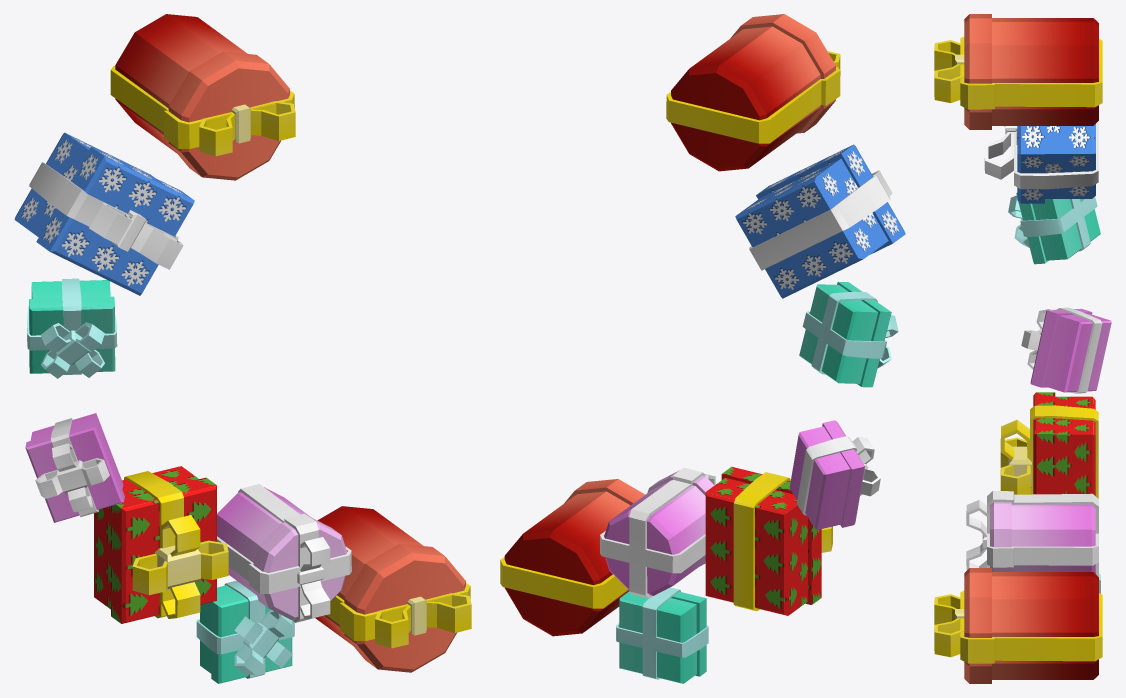
Rendered from regalo_2.obj.
3 renders of one model, left to right at view 1: azimuth 30°, elevation 25°; view 2: azimuth 150°, elevation 25°; view 3: azimuth 270°, elevation 25°, orthographic. The views are drawn at different scales.
Parts seen in each view (by area): view 1: Christmas_Present_01_Mesh.007, Christmas_Present_009_Mesh.038, Christmas_Present_04_Mesh.004, Christmas_Present_008_Mesh.037, Christmas_Present_02_Mesh.009, Christmas_Present_07_Mesh.006, Christmas_Present_05_Mesh.005, Christmas_Present_06_Mesh.008; view 2: Christmas_Present_01_Mesh.007, Christmas_Present_009_Mesh.038, Christmas_Present_04_Mesh.004, Christmas_Present_008_Mesh.037, Christmas_Present_02_Mesh.009, Christmas_Present_07_Mesh.006, Christmas_Present_06_Mesh.008, Christmas_Present_05_Mesh.005; view 3: Christmas_Present_01_Mesh.007, Christmas_Present_008_Mesh.037, Christmas_Present_02_Mesh.009, Christmas_Present_04_Mesh.004, Christmas_Present_009_Mesh.038, Christmas_Present_05_Mesh.005, Christmas_Present_07_Mesh.006.
Part boxes in pixels (left/top/right/bottom): Christmas_Present_01_Mesh.007: left=110, top=14, right=295, bottom=180; Christmas_Present_009_Mesh.038: left=14, top=132, right=194, bottom=295; Christmas_Present_04_Mesh.004: left=94, top=466, right=228, bottom=623; Christmas_Present_008_Mesh.037: left=315, top=506, right=471, bottom=672; Christmas_Present_02_Mesh.009: left=217, top=484, right=351, bottom=622; Christmas_Present_07_Mesh.006: left=27, top=278, right=117, bottom=378; Christmas_Present_05_Mesh.005: left=25, top=413, right=124, bottom=522; Christmas_Present_06_Mesh.008: left=196, top=580, right=294, bottom=683; Christmas_Present_01_Mesh.007: left=666, top=14, right=840, bottom=171; Christmas_Present_009_Mesh.038: left=735, top=144, right=905, bottom=298; Christmas_Present_04_Mesh.004: left=705, top=466, right=832, bottom=615; Christmas_Present_008_Mesh.037: left=500, top=479, right=644, bottom=636; Christmas_Present_02_Mesh.009: left=600, top=467, right=715, bottom=598; Christmas_Present_07_Mesh.006: left=799, top=281, right=898, bottom=387; Christmas_Present_06_Mesh.008: left=616, top=587, right=708, bottom=683; Christmas_Present_05_Mesh.005: left=789, top=420, right=880, bottom=529; Christmas_Present_01_Mesh.007: left=934, top=14, right=1102, bottom=129; Christmas_Present_008_Mesh.037: left=934, top=568, right=1102, bottom=683; Christmas_Present_02_Mesh.009: left=966, top=490, right=1098, bottom=576; Christmas_Present_04_Mesh.004: left=1000, top=392, right=1098, bottom=498; Christmas_Present_009_Mesh.038: left=984, top=121, right=1098, bottom=203; Christmas_Present_05_Mesh.005: left=1021, top=307, right=1111, bottom=393; Christmas_Present_07_Mesh.006: left=1008, top=192, right=1100, bottom=264.
Size of the model in its own units: 2.56 by 4.16 by 1.12.
